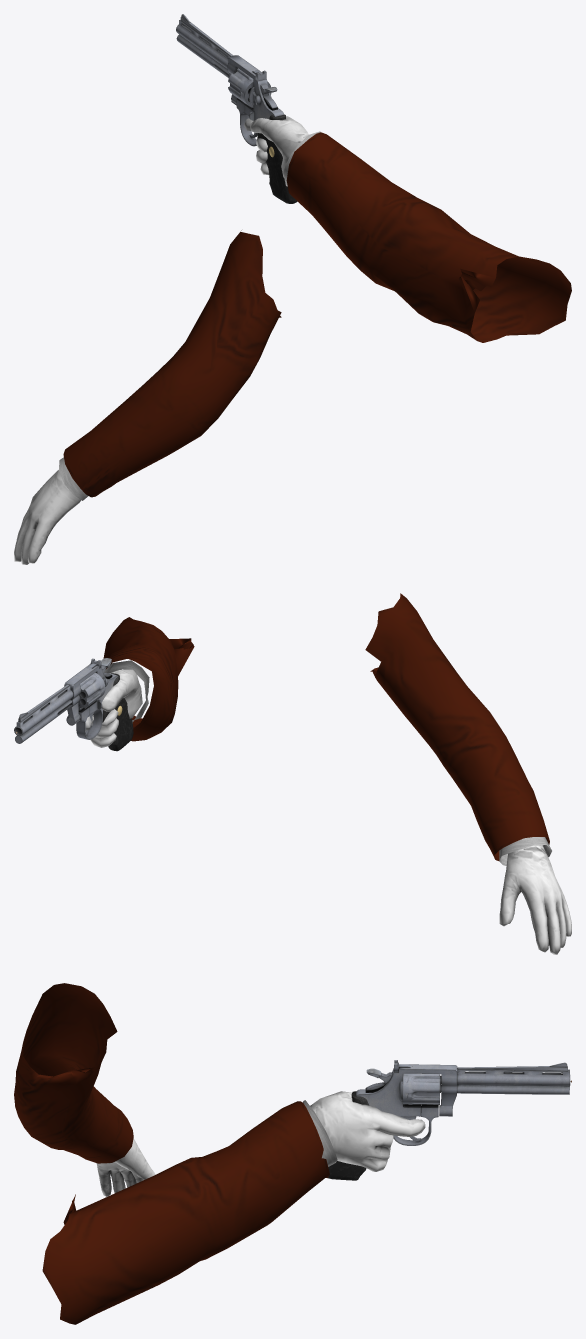
The model's file is frame_13.obj.
3 views of the same model, one above another, from view 1: azimuth 30°, elevation 25°; view 2: azimuth 150°, elevation 25°; view 3: azimuth 270°, elevation 25° (orthographic). The views are drawn at different scales.
Visible parts, largest first — view 1: PlayerModelMerged.001_PlayerModelMerged, Plane.008_meshId0_name; view 2: PlayerModelMerged.001_PlayerModelMerged, Plane.008_meshId0_name, Plane.001_meshId0_name.001; view 3: PlayerModelMerged.001_PlayerModelMerged, Plane.008_meshId0_name, Plane.001_meshId0_name.001.
Boxes of the visible parts, <box> form: PlayerModelMerged.001_PlayerModelMerged: <box>14,116,571,564</box>; Plane.008_meshId0_name: <box>176,14,297,203</box>; PlayerModelMerged.001_PlayerModelMerged: <box>85,593,571,954</box>; Plane.008_meshId0_name: <box>14,658,133,751</box>; Plane.001_meshId0_name.001: <box>78,672,105,710</box>; PlayerModelMerged.001_PlayerModelMerged: <box>14,983,425,1324</box>; Plane.008_meshId0_name: <box>327,1060,570,1180</box>; Plane.001_meshId0_name.001: <box>403,1073,441,1104</box>.
Size of the model in its own units: 1.14 by 0.6584 by 0.9979.
